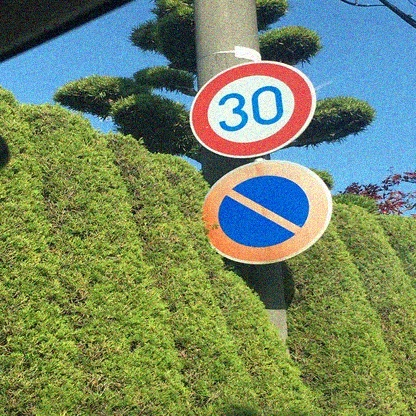Prohibition_sign: (201, 159, 339, 266)
Speed_sign: (190, 57, 315, 164)
